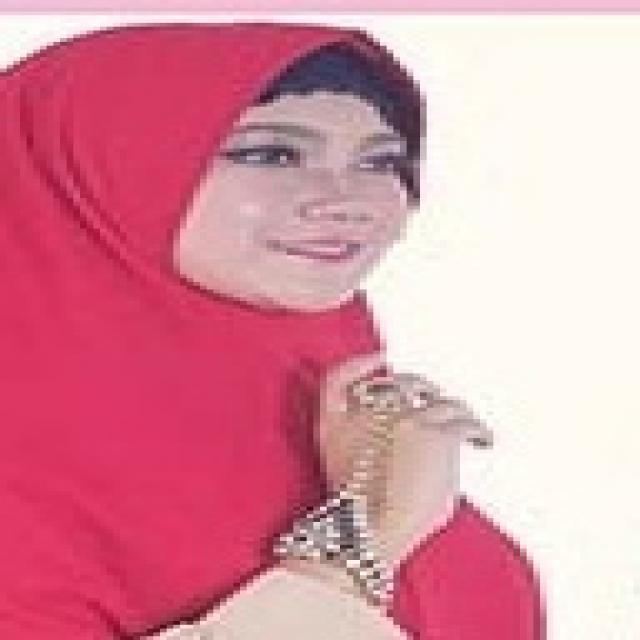head: (61, 23, 440, 324)
